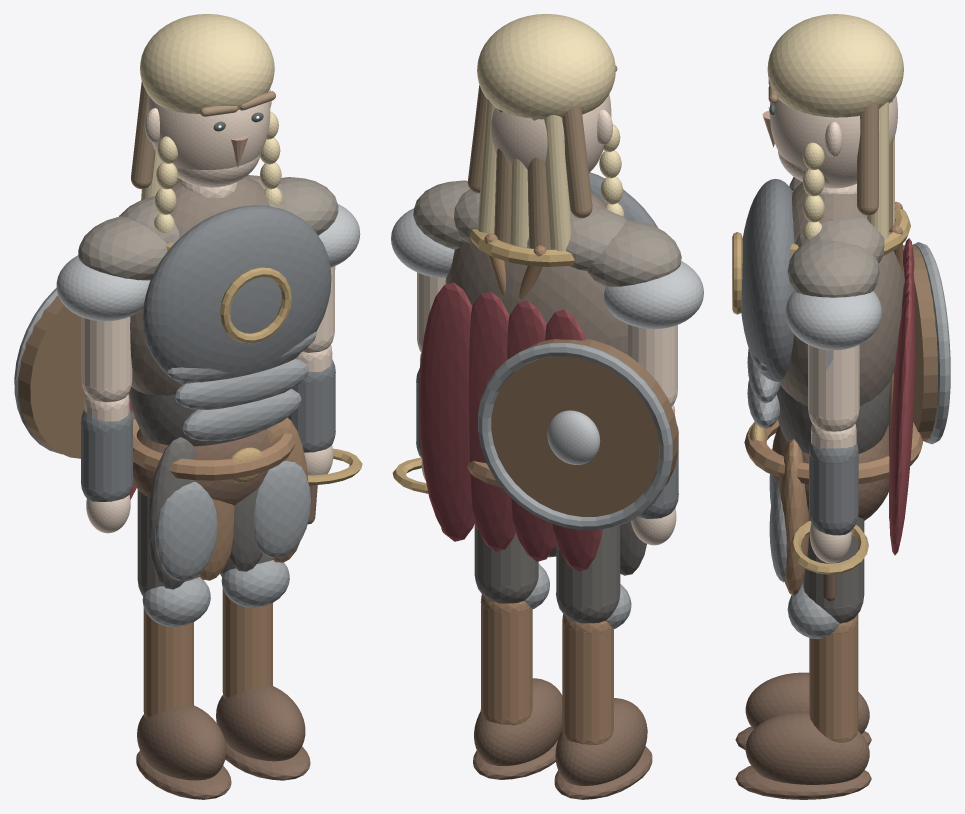
File: Midgard_Hero_Valkyrie_Skin_V2_YUP.glb
The picture shows the model from 3 angles, left to right: view 1: azimuth 30°, elevation 25°; view 2: azimuth 150°, elevation 25°; view 3: azimuth 270°, elevation 25°; orthographic projection. The views are drawn at different scales.
Visible parts, largest first — view 1: ChestArmor, HairScalp, Shield, Head, Boot_L, Boot_R, ThighPlate_-1, Torso, Leg_R_Shin, Leg_L_Shin, ThighPlate_1, Vambrace_L (+31 smaller); view 2: Shield, HairScalp, CapePanel_3, ShieldRim, Torso, CapePanel_2, Leg_L_Shin, Leg_R_Shin, Boot_L, Boot_R, Shoulder_L, Leg_L_Thigh (+29 smaller); view 3: HairScalp, ChestArmor, Torso, Boot_R, Leg_R_Shin, CapePanel_3, Head, Shoulder_R, FurMantle_4, Vambrace_R, Arm_R_Upper, Shield (+25 smaller).
Boxes of the visible parts, left/top/right/bottom form: ChestArmor: left=142, top=205, right=331, bottom=384; HairScalp: left=140, top=14, right=274, bottom=113; Shield: left=18, top=295, right=85, bottom=458; Head: left=146, top=96, right=270, bottom=178; Boot_L: left=137, top=704, right=226, bottom=780; Boot_R: left=216, top=685, right=305, bottom=761; ThighPlate_-1: left=155, top=482, right=217, bottom=580; Torso: left=130, top=176, right=269, bottom=395; Leg_R_Shin: left=222, top=588, right=272, bottom=698; Leg_L_Shin: left=143, top=608, right=193, bottom=717; ThighPlate_1: left=254, top=461, right=310, bottom=557; Vambrace_L: left=81, top=408, right=133, bottom=501; Shield: left=491, top=339, right=678, bottom=516; HairScalp: left=477, top=14, right=615, bottom=119; CapePanel_3: left=418, top=282, right=474, bottom=541; ShieldRim: left=478, top=342, right=672, bottom=530; Torso: left=445, top=192, right=627, bottom=354; CapePanel_2: left=469, top=291, right=515, bottom=551; Leg_L_Shin: left=562, top=614, right=613, bottom=744; Leg_R_Shin: left=480, top=594, right=532, bottom=725; Boot_L: left=555, top=698, right=647, bottom=785; Boot_R: left=474, top=678, right=562, bottom=765; Shoulder_L: left=604, top=261, right=703, bottom=329; Leg_L_Thigh: left=556, top=525, right=620, bottom=623; HairScalp: left=767, top=14, right=903, bottom=117; ChestArmor: left=741, top=179, right=794, bottom=381; Torso: left=779, top=182, right=904, bottom=406; Boot_R: left=745, top=711, right=869, bottom=784; Leg_R_Shin: left=809, top=615, right=858, bottom=742; CapePanel_3: left=889, top=291, right=915, bottom=555; Head: left=769, top=95, right=897, bottom=188; Shoulder_R: left=785, top=291, right=881, bottom=350; FurMantle_4: left=787, top=240, right=879, bottom=297; Vambrace_R: left=809, top=442, right=858, bottom=535; Arm_R_Upper: left=808, top=344, right=859, bottom=431; Shield: left=903, top=245, right=937, bottom=440.
Size of the model in its own units: 1.78 by 4.12 by 1.09.
